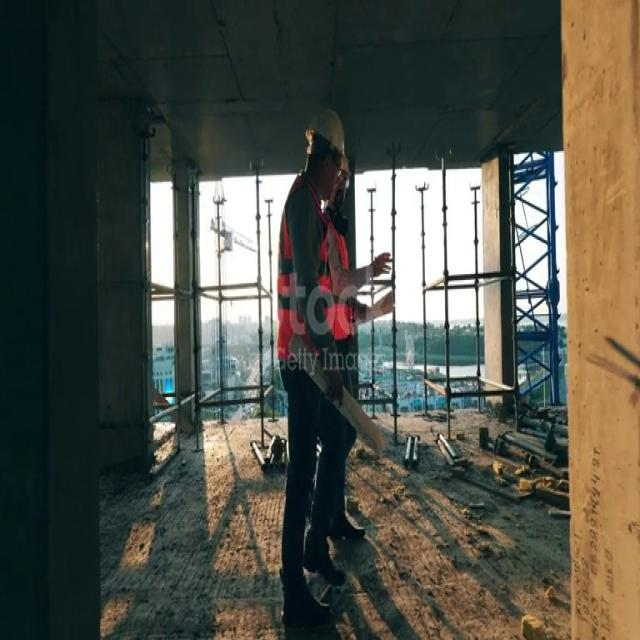capacete: (296, 96, 355, 161), (342, 151, 360, 189)
